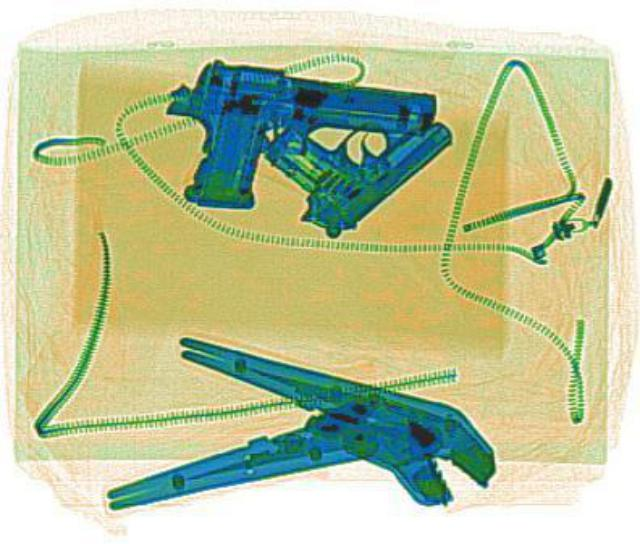Gun: (166, 55, 440, 230), (243, 65, 462, 236)
